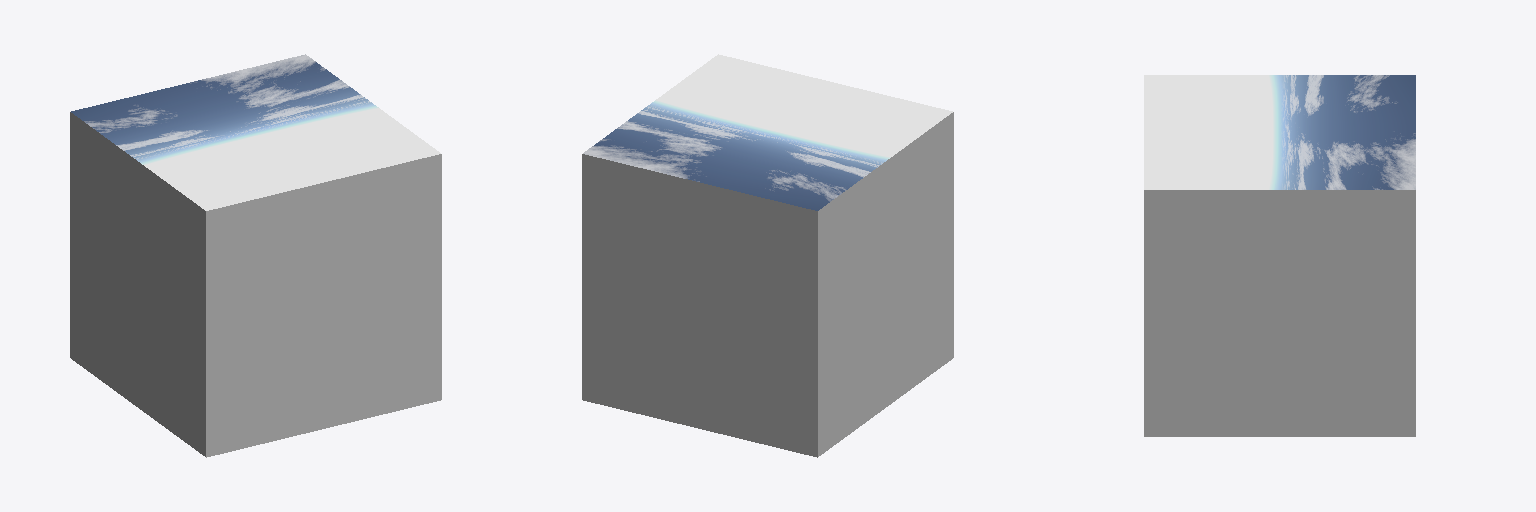
The picture shows the model from 3 angles: view 1: azimuth 30°, elevation 25°; view 2: azimuth 150°, elevation 25°; view 3: azimuth 270°, elevation 25°; orthographic projection.
Visible parts, largest first — view 1: Cube; view 2: Cube; view 3: Cube.
Part boxes in pixels (left/top/right/bottom): Cube: left=70, top=54, right=441, bottom=457; Cube: left=582, top=54, right=953, bottom=457; Cube: left=1144, top=75, right=1415, bottom=436.
Bounding box in the file's own units: 2000 × 2000 × 2000.
Materials: 6 (1 with a texture image).